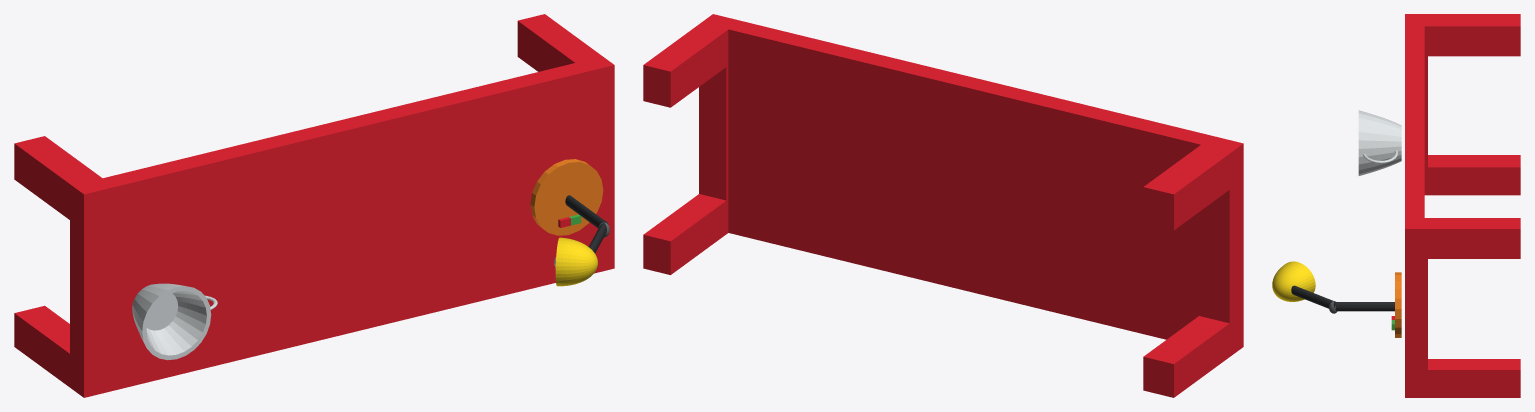
File: tinker.obj
3 views of the same model, side by side, from view 1: azimuth 30°, elevation 25°; view 2: azimuth 150°, elevation 25°; view 3: azimuth 270°, elevation 25° (orthographic). The views are drawn at different scales.
Visible parts, largest first — view 1: group_0_15277357, group_0_14541540, group_0_16089887, group_0_16768282, group_0_2829873; view 2: group_0_15277357; view 3: group_0_15277357, group_0_14541540, group_0_16768282, group_0_2829873, group_0_16089887.
Boxes of the visible parts, x1,y1,x2,y2 form: group_0_15277357: (14, 14, 614, 397); group_0_14541540: (132, 283, 217, 360); group_0_16089887: (530, 159, 603, 235); group_0_16768282: (555, 237, 597, 286); group_0_2829873: (565, 195, 608, 252); group_0_15277357: (643, 14, 1243, 397); group_0_15277357: (1391, 14, 1520, 397); group_0_14541540: (1358, 110, 1401, 175); group_0_16768282: (1272, 261, 1315, 301); group_0_2829873: (1291, 285, 1394, 311); group_0_16089887: (1395, 272, 1401, 337).
Bounding box in the file's own units: 154 × 56.37 × 75.13.
